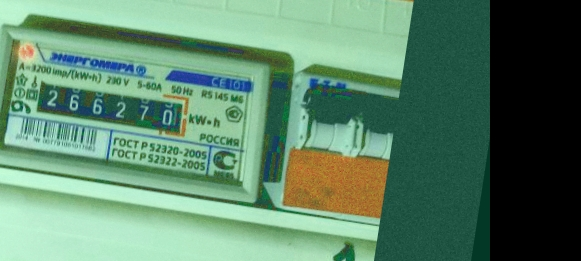0: (159, 105, 173, 127)
2: (43, 86, 60, 109), (112, 98, 127, 120)
6: (66, 91, 81, 113), (90, 95, 104, 115)
7: (135, 102, 150, 122)
screen: (21, 66, 200, 147)
